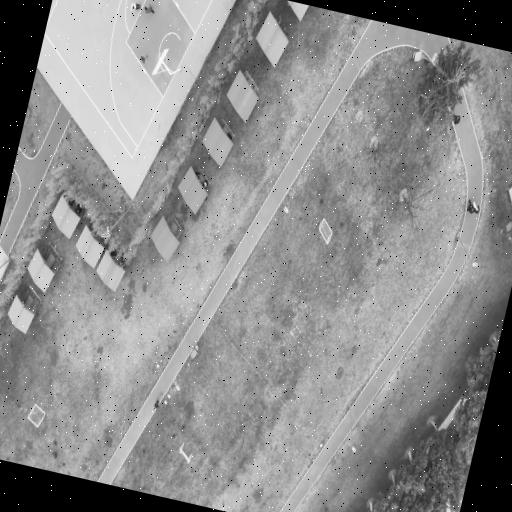person: (154, 393, 161, 408), (466, 199, 473, 212), (144, 4, 154, 13), (452, 114, 460, 124), (130, 2, 140, 10), (472, 201, 479, 212), (140, 54, 147, 63), (202, 179, 207, 188)
